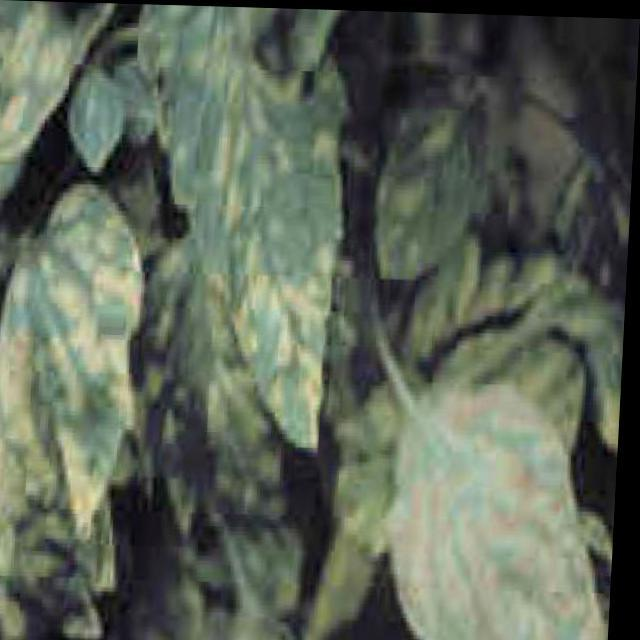Tomato mold leaf: (126, 3, 361, 466), (397, 371, 624, 639), (0, 190, 147, 510)
